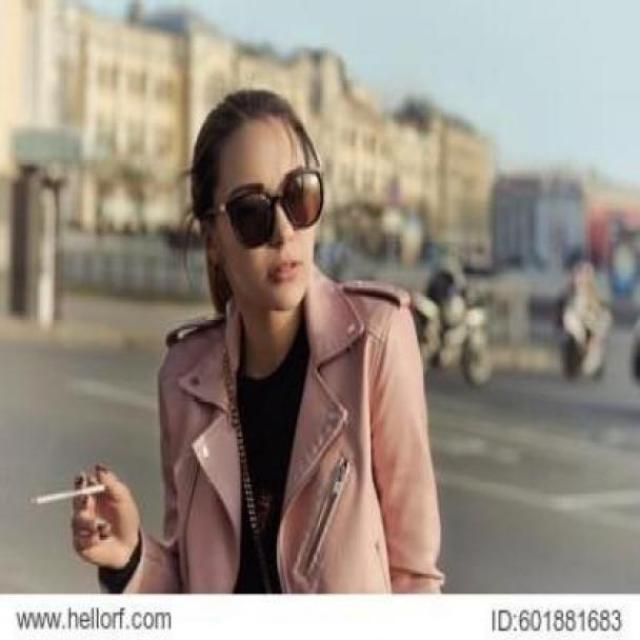rokok: (26, 484, 112, 506)
